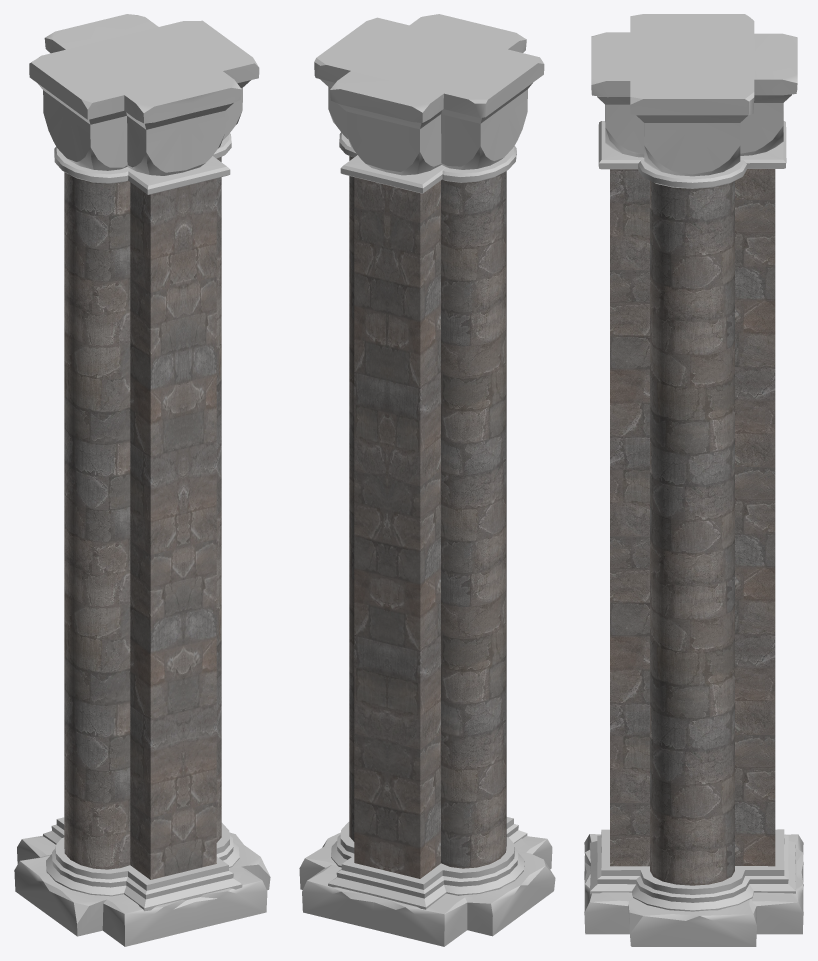
3 renders of one model, left to right at view 1: azimuth 30°, elevation 25°; view 2: azimuth 150°, elevation 25°; view 3: azimuth 270°, elevation 25°, orthographic.
Visible parts, largest first — view 1: SM_Dungeon_RoomCentralColumn_LOD0; view 2: SM_Dungeon_RoomCentralColumn_LOD0; view 3: SM_Dungeon_RoomCentralColumn_LOD0.
Boxes of the visible parts, x1,y1,x2,y2 form: SM_Dungeon_RoomCentralColumn_LOD0: (14, 14, 270, 946); SM_Dungeon_RoomCentralColumn_LOD0: (299, 14, 555, 946); SM_Dungeon_RoomCentralColumn_LOD0: (584, 14, 803, 946).
Bounding box in the file's own units: 1.46 × 6 × 1.41.
